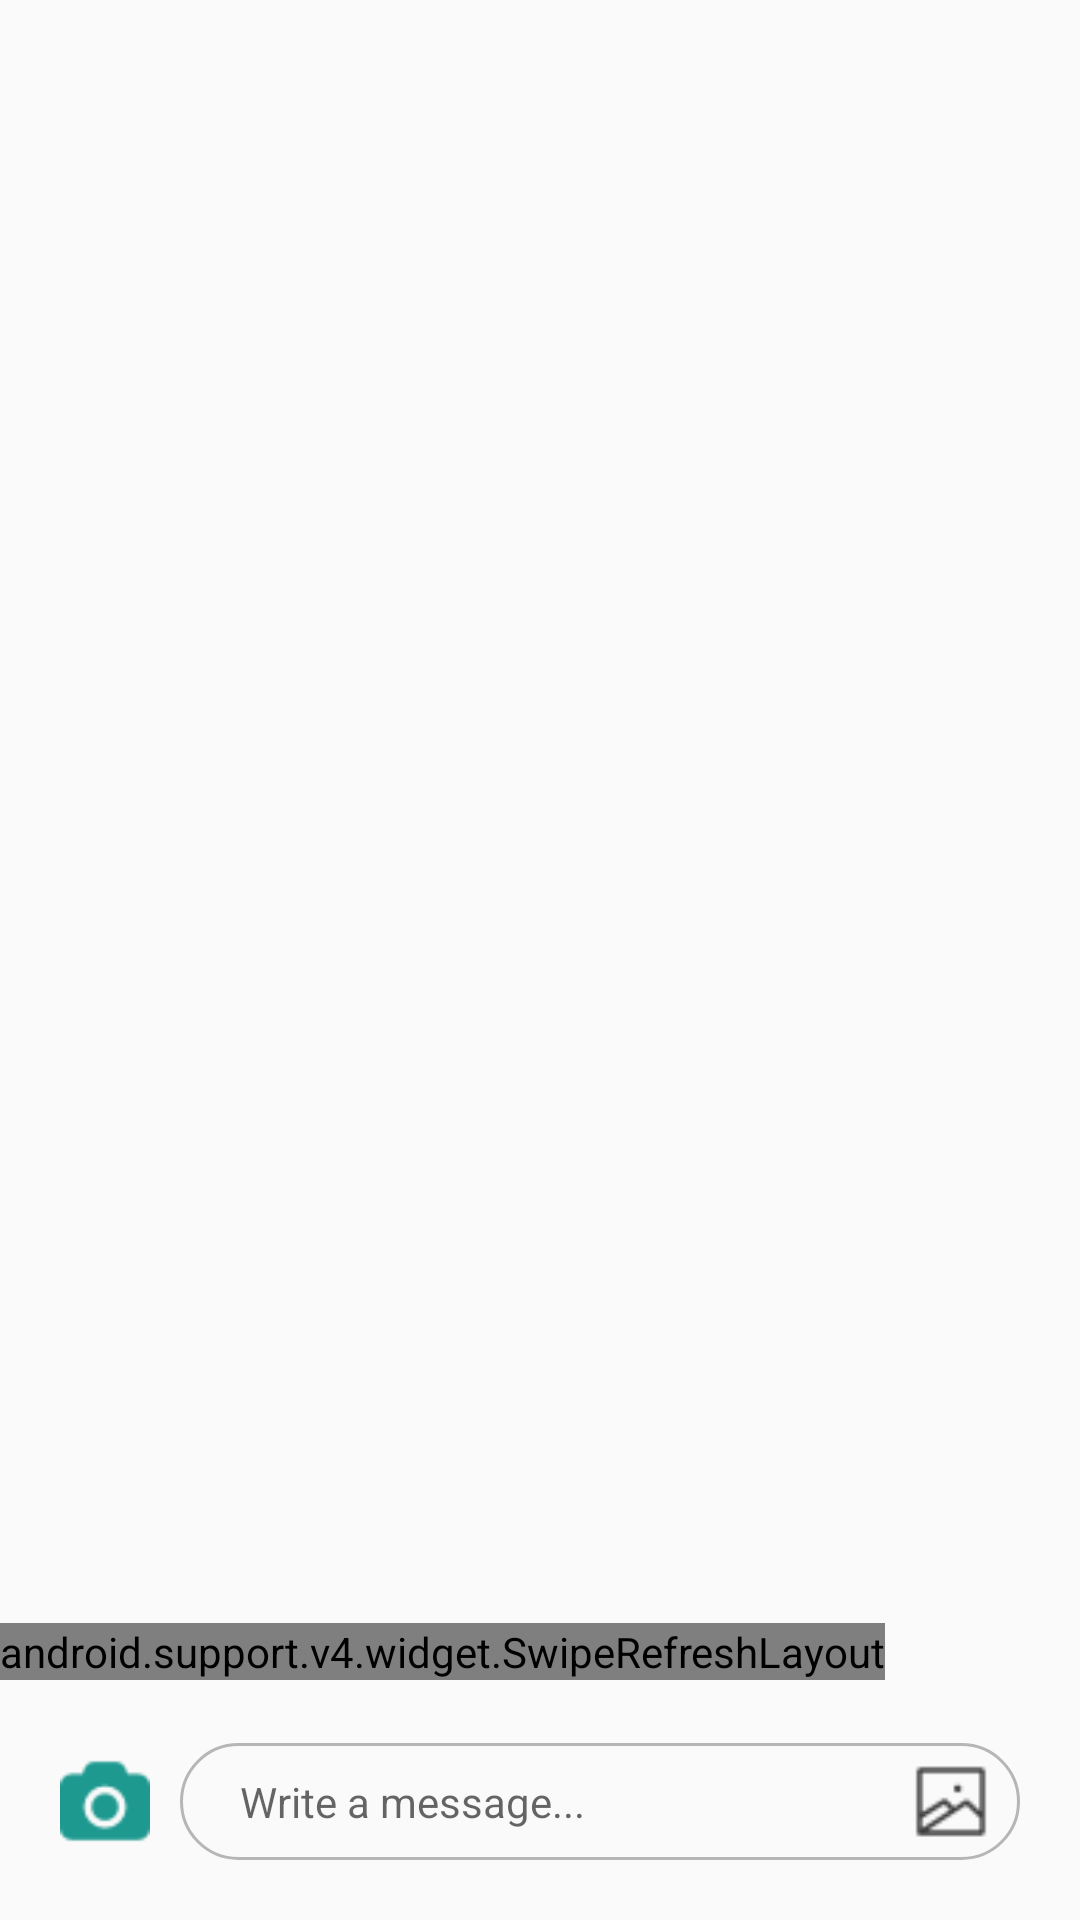

Named icons in this screenshot (1080x1920) and their centers, (x,y):
camera: (105,1801)
gallery: (951,1801)
